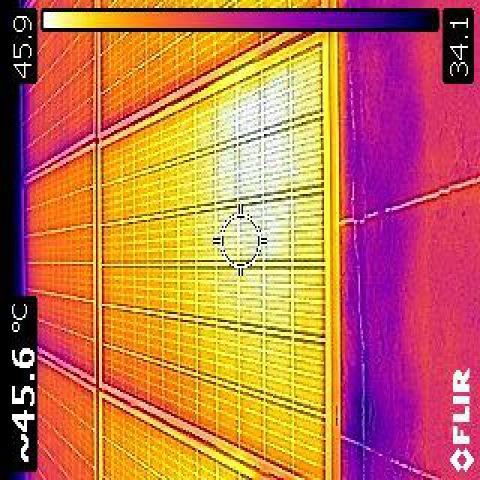fault: (232, 73, 289, 203)
